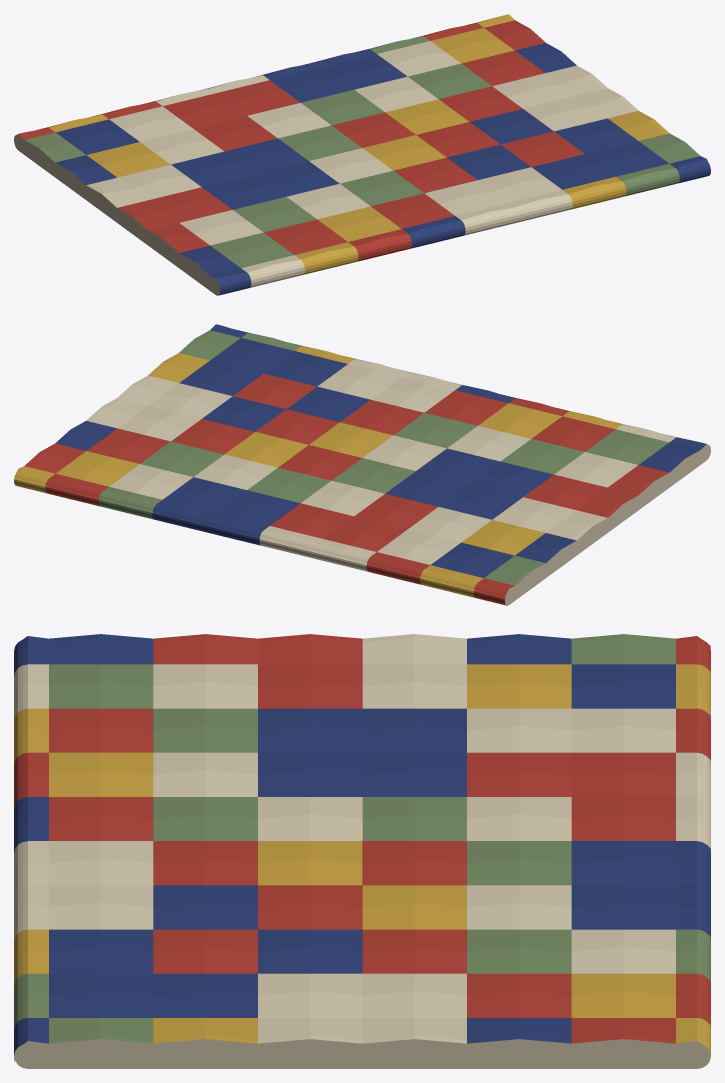
Rendered from quilt.glb.
The picture shows the model from 3 angles, top to bottom: view 1: azimuth 30°, elevation 25°; view 2: azimuth 150°, elevation 25°; view 3: azimuth 270°, elevation 25°; orthographic projection. The views are drawn at different scales.
Visible parts, largest first — view 1: quiltLayer; view 2: quiltLayer; view 3: quiltLayer.
Boxes of the visible parts, bbox=[...] form: quiltLayer: bbox=[14, 14, 710, 295]; quiltLayer: bbox=[14, 324, 710, 605]; quiltLayer: bbox=[14, 634, 710, 1068].
Bounding box in the file's own units: 1.1 × 0.038 × 0.8.
